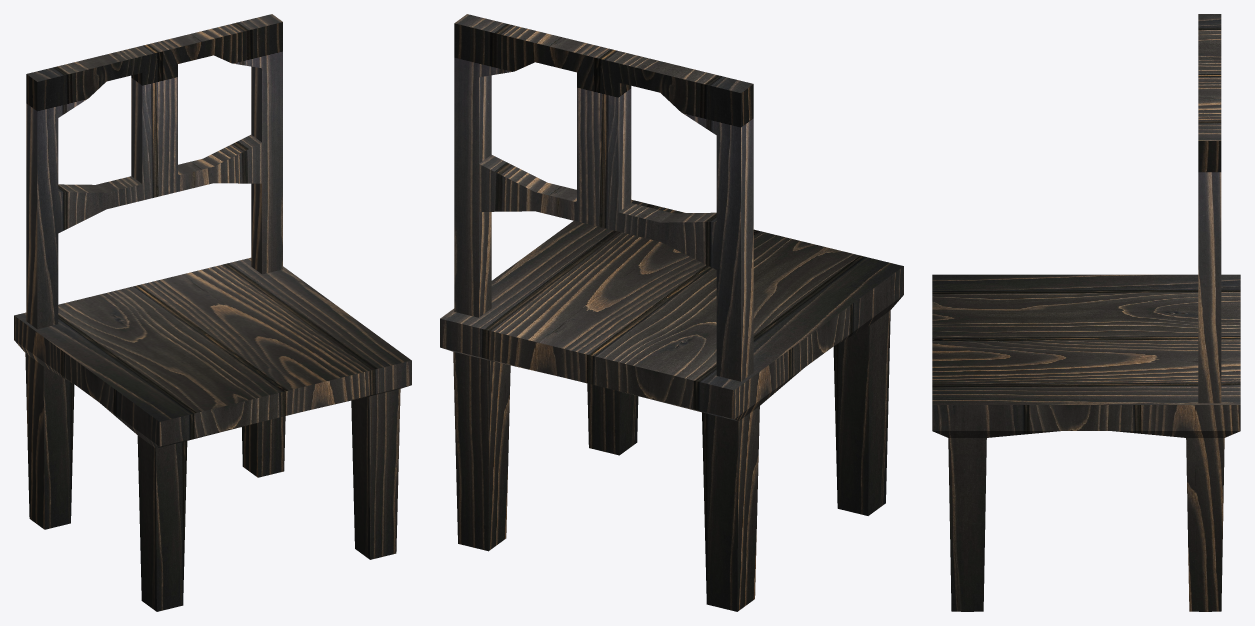
Rendered from SimpleChair.fbx.
3 renders of one model, left to right at view 1: azimuth 30°, elevation 25°; view 2: azimuth 150°, elevation 25°; view 3: azimuth 270°, elevation 25°, orthographic. The views are drawn at different scales.
Parts seen in each view (by area): view 1: Chair; view 2: Chair; view 3: Chair.
Part boxes in pixels (x1,y1,x2,y2): Chair: (14, 14, 411, 611); Chair: (440, 14, 903, 611); Chair: (932, 14, 1240, 611).
Bounding box in the file's own units: 160 × 273 × 160.
